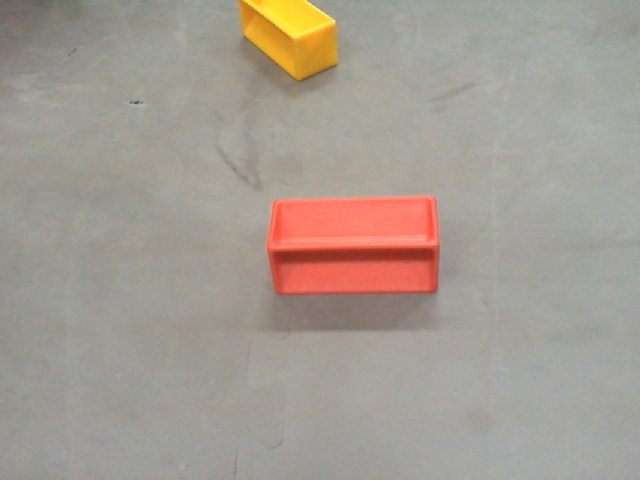RedSample: (267, 194, 442, 296)
YellowSample: (237, 1, 337, 86)
